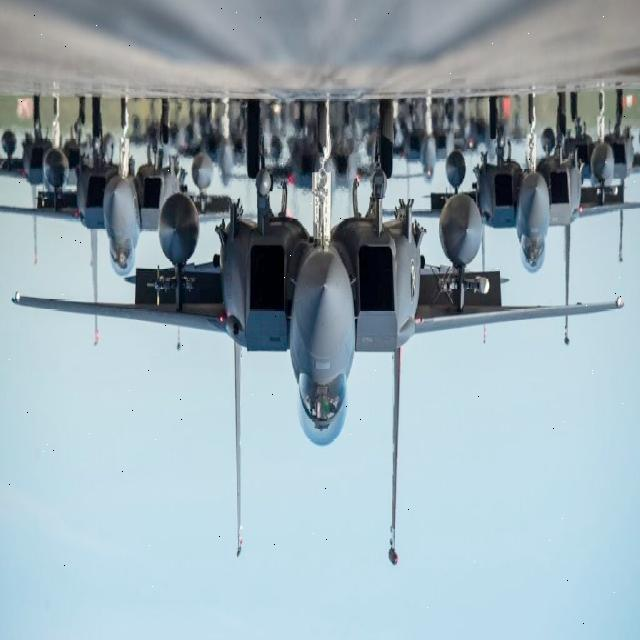F15: (0, 55, 632, 602)
